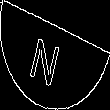N_N: (37, 24, 73, 86)
